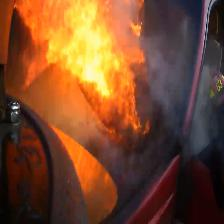fire: (0, 0, 165, 201)
